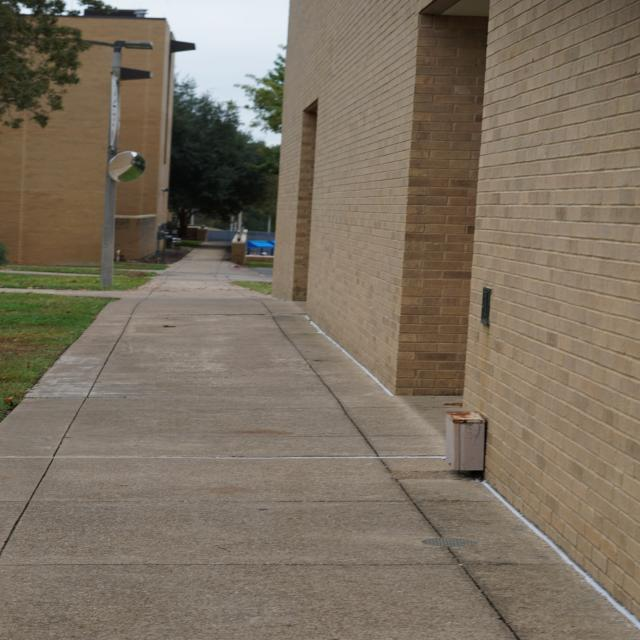Obstacle: (445, 412, 486, 472)
Sidewalk: (0, 244, 640, 640), (0, 269, 100, 277)
